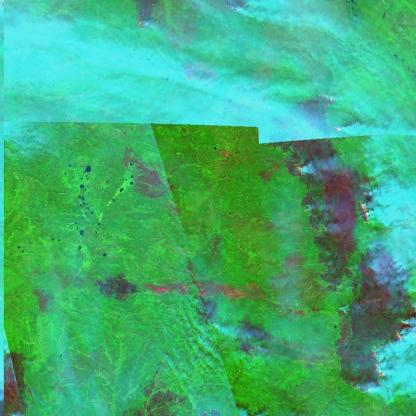fire: (354, 298, 416, 399), (311, 91, 345, 132), (355, 179, 375, 229), (286, 153, 307, 187), (132, 7, 148, 39)
